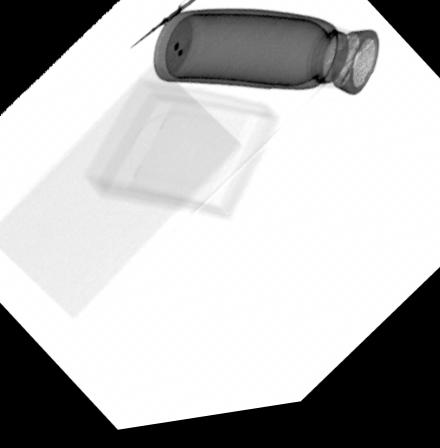Scissors: (133, 0, 204, 50)
